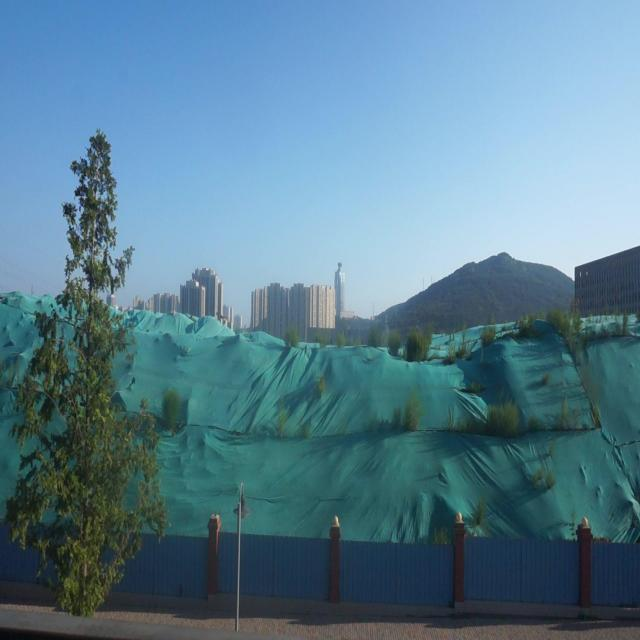UAV: (216, 312, 228, 320)
